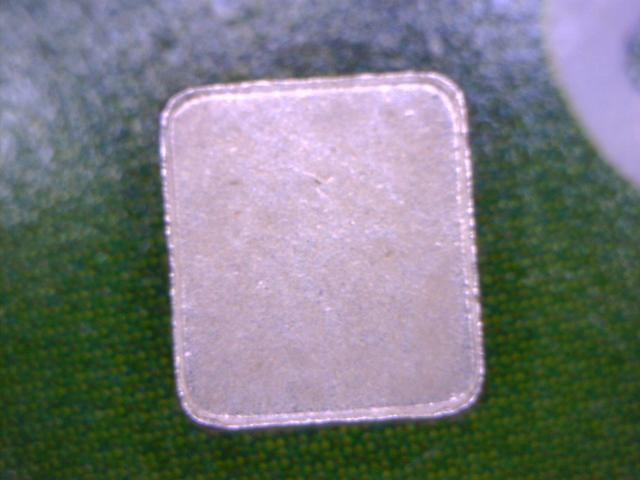nok: (150, 69, 499, 436)
